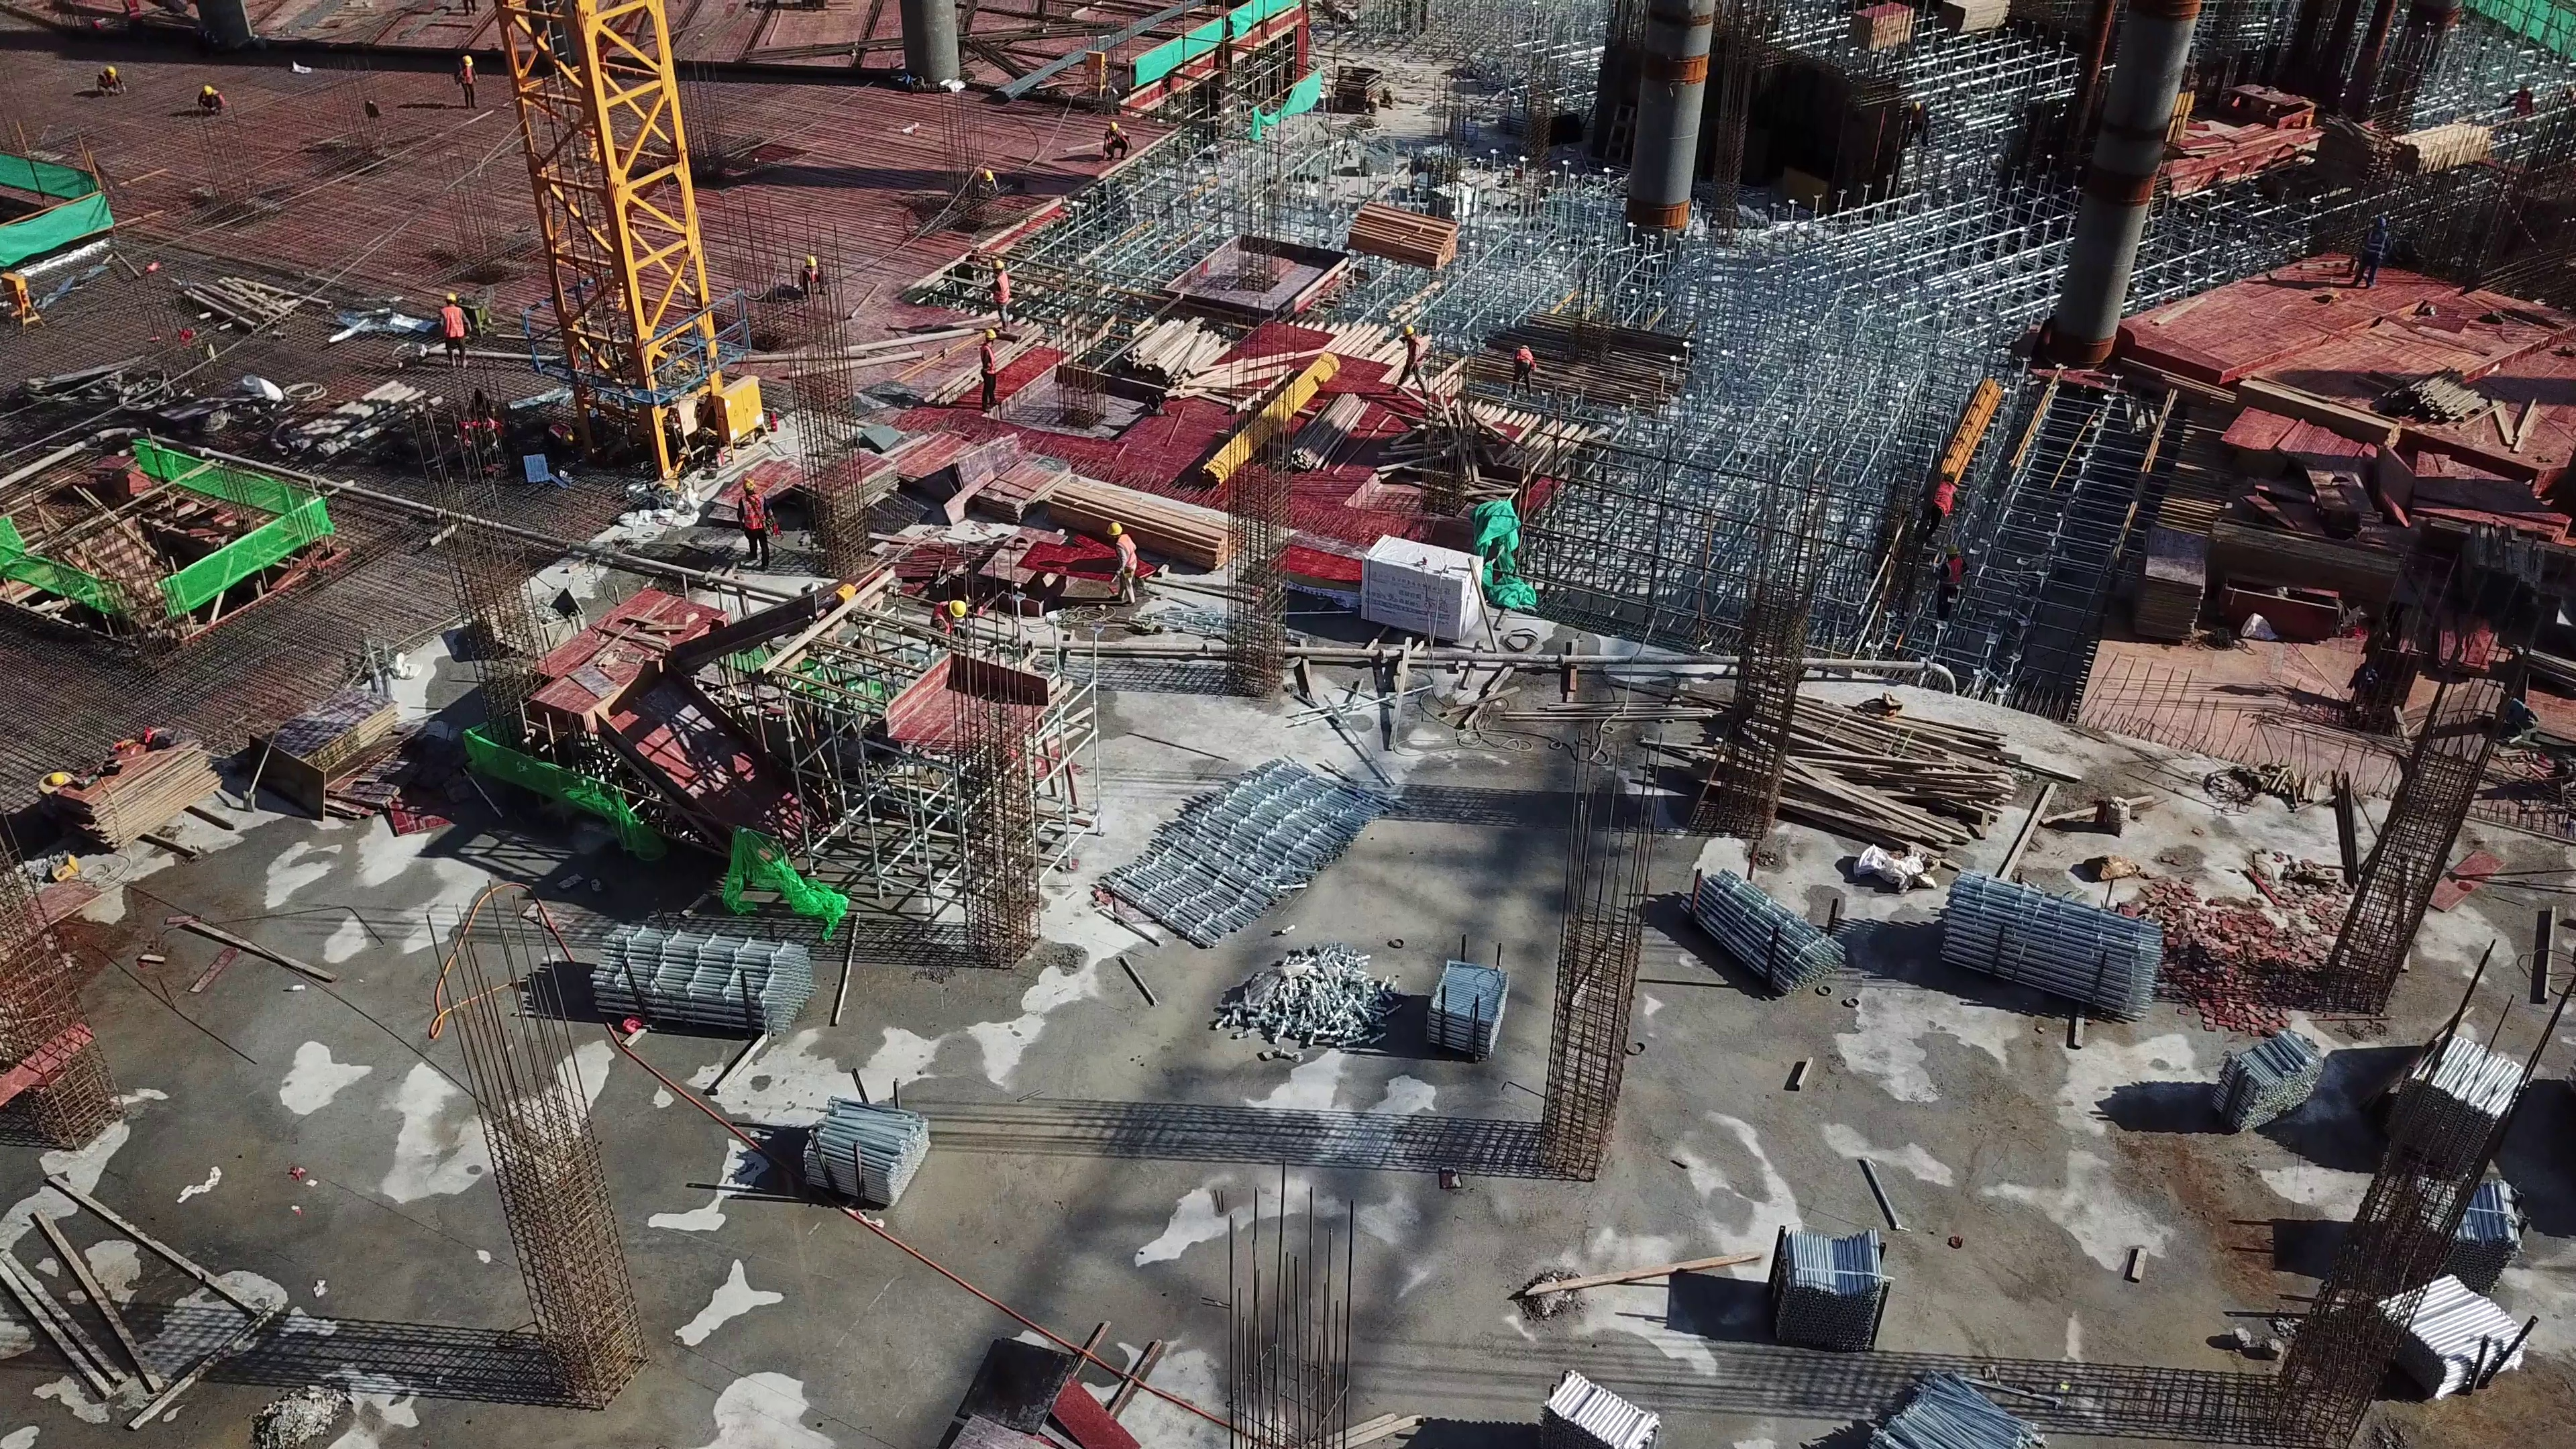board: (251, 686, 394, 820), (67, 742, 215, 835), (2132, 517, 2202, 643)
ebox: (707, 376, 767, 445)
person: (735, 468, 779, 576), (1938, 538, 1979, 626), (921, 590, 978, 652), (1102, 508, 1137, 608), (1925, 471, 1966, 549), (971, 319, 1003, 415), (437, 292, 470, 380), (788, 252, 834, 305), (991, 260, 1024, 333), (1397, 321, 1429, 393), (1514, 339, 1546, 408), (1099, 110, 1133, 169), (451, 48, 482, 105), (968, 162, 1004, 208), (191, 85, 230, 128), (88, 56, 124, 95)
scaffold: (1096, 756, 1374, 955), (1931, 864, 2169, 1013), (589, 908, 808, 1051), (1671, 873, 1837, 1004), (2408, 1021, 2526, 1163), (2398, 1263, 2521, 1392), (1776, 1220, 1901, 1340), (808, 1097, 927, 1220), (2402, 1171, 2531, 1266), (2225, 1016, 2318, 1141), (1420, 961, 1505, 1065)
wood: (1686, 672, 2030, 859), (1038, 476, 1257, 582), (1085, 316, 1260, 421), (2394, 351, 2540, 453), (178, 265, 305, 342), (2465, 520, 2558, 622), (1342, 205, 1463, 275), (2390, 118, 2495, 193), (1847, 4, 1915, 51)
